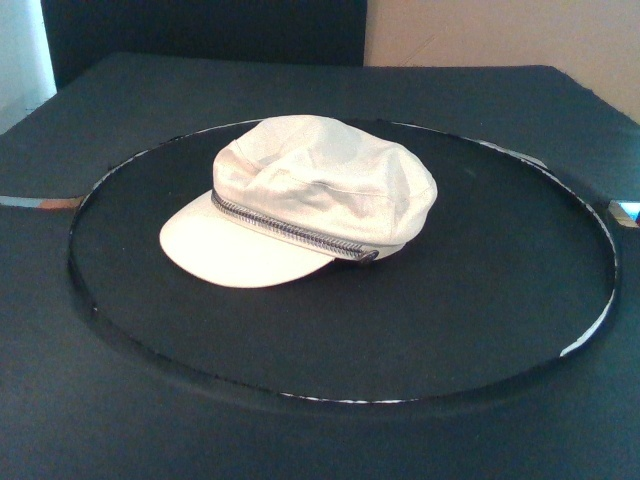cap: (158, 115, 439, 290)
